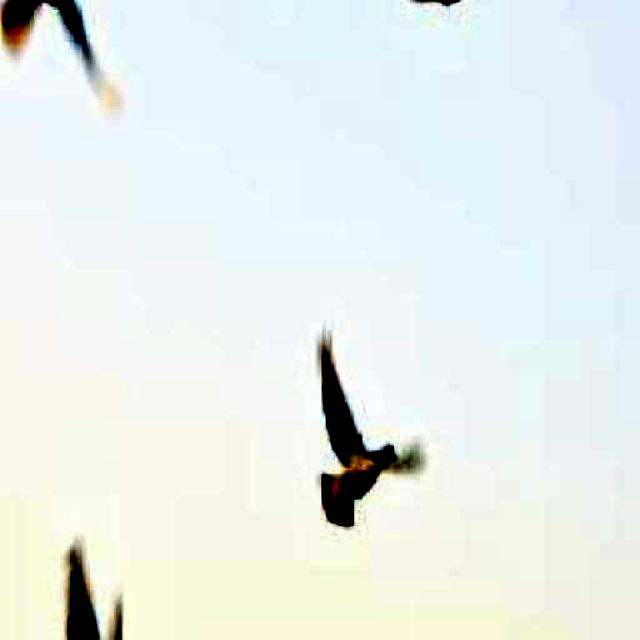airplane: (316, 320, 428, 530), (0, 0, 125, 129), (42, 534, 122, 640)
